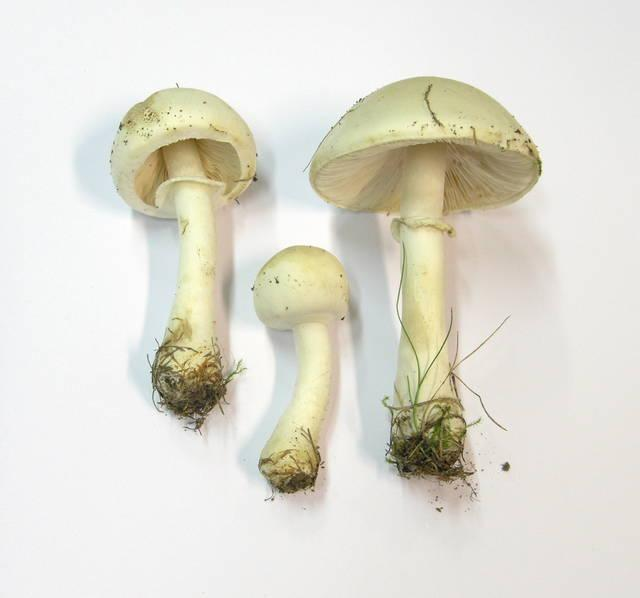Non-edible Mushroom: (304, 74, 543, 478), (108, 83, 258, 433), (250, 243, 350, 495)
